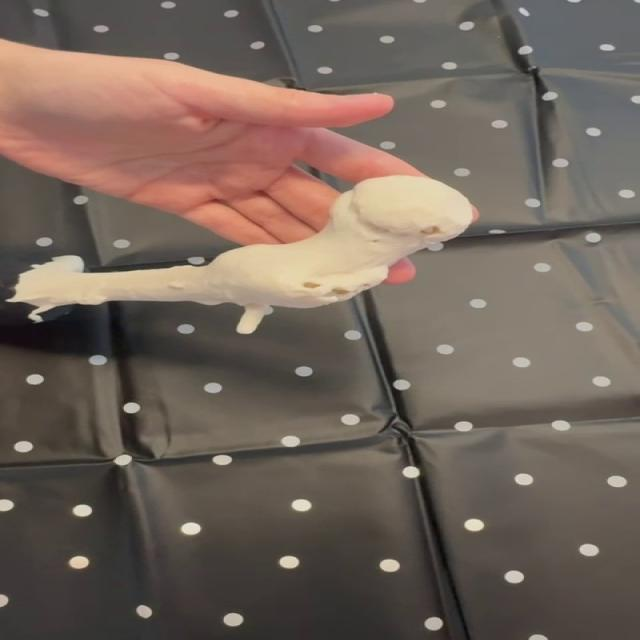bones: (0, 176, 473, 334)
